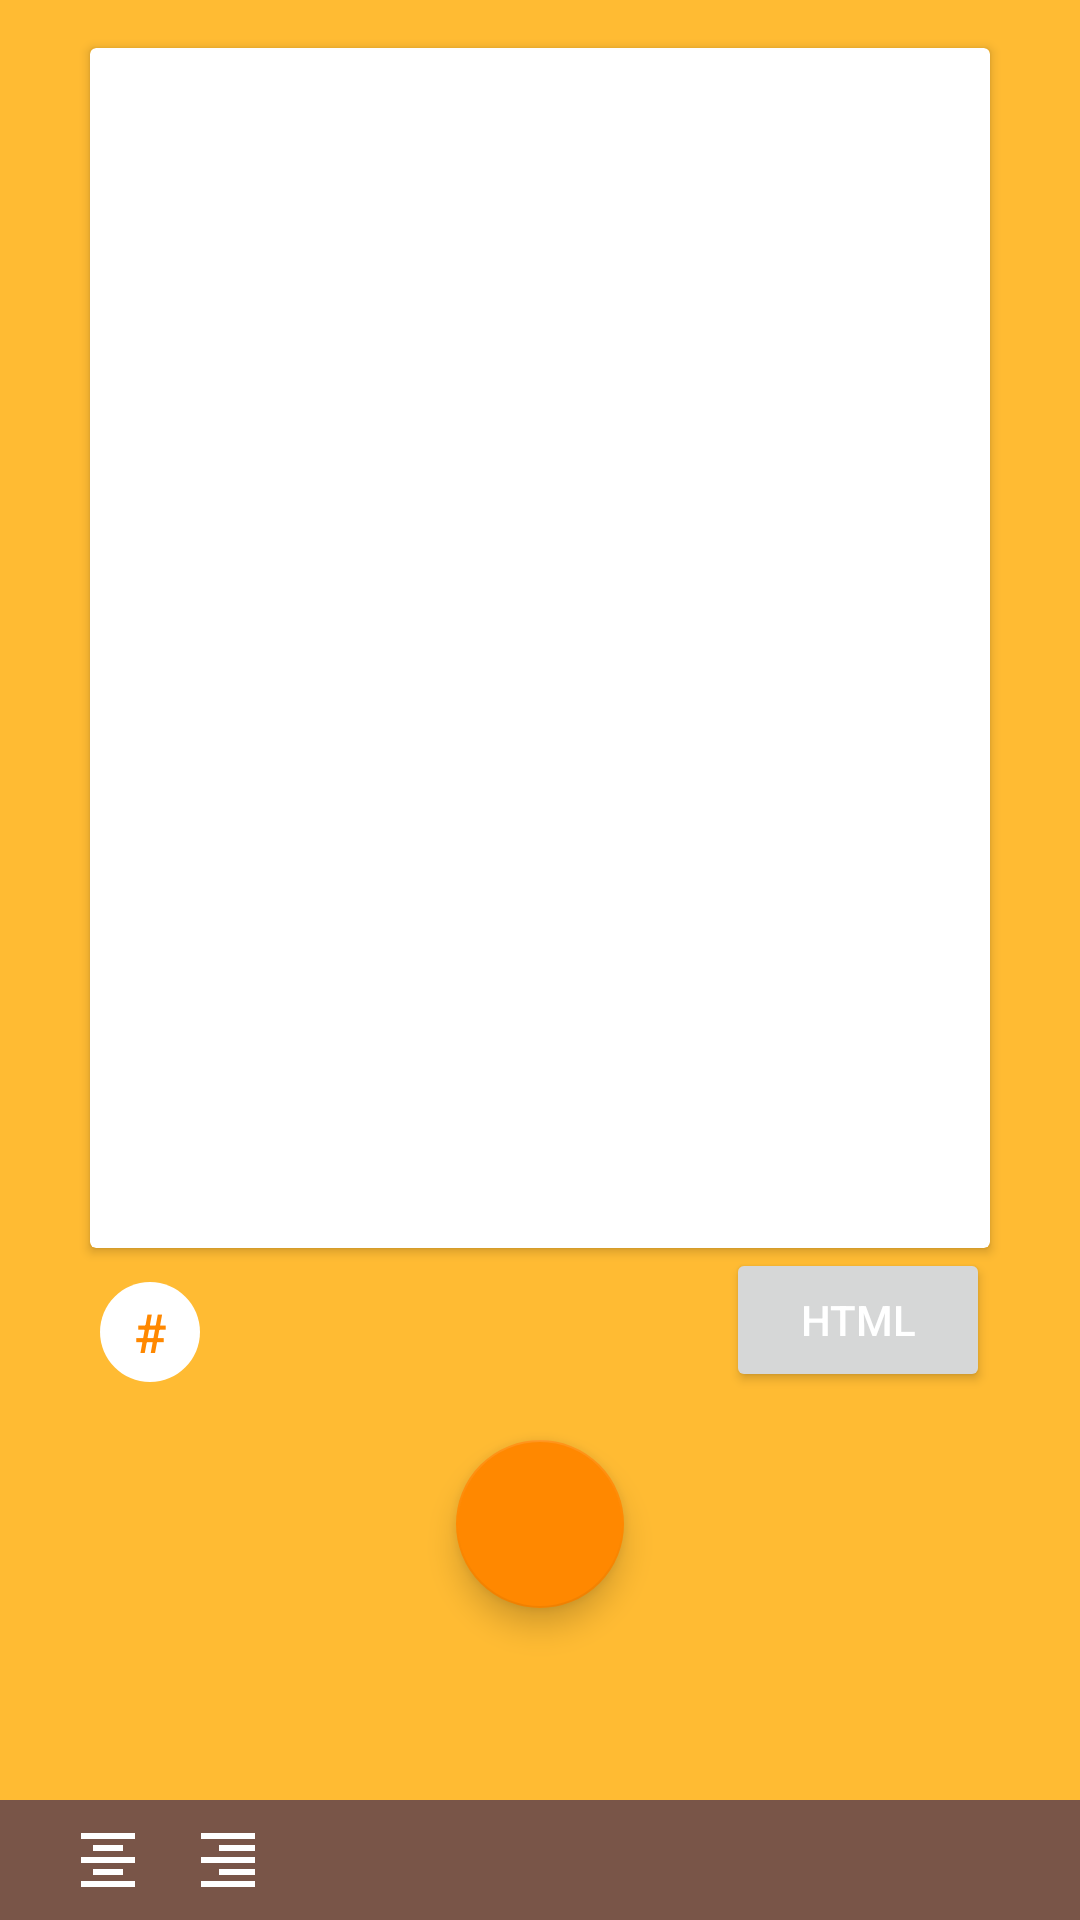

Icon click points for this 1080px×1920px phone screenshot, format point (x, y):
format align center: point (108, 1860)
format align right: point (228, 1860)
